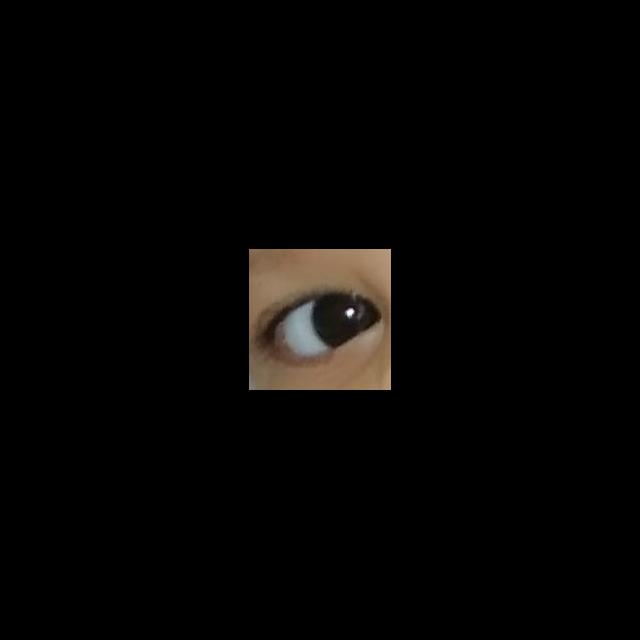eye: (278, 294, 377, 360)
iris: (313, 296, 374, 348)
